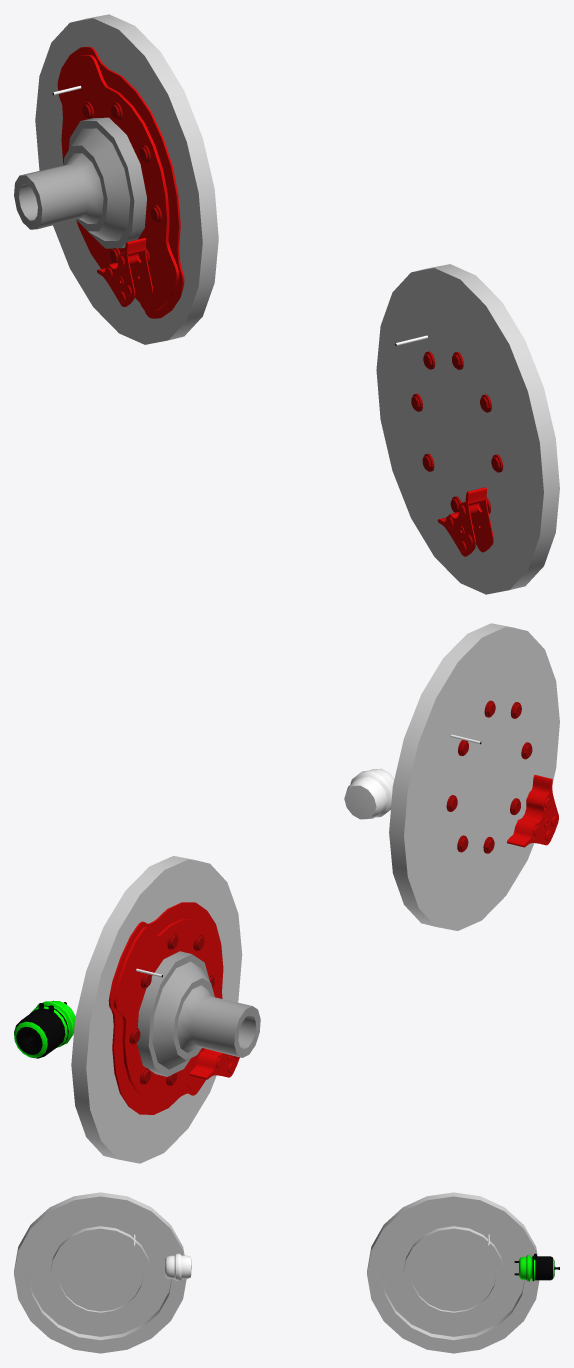
File: JianSuKuang.fbx
The picture shows the model from 3 angles, top to bottom: view 1: azimuth 30°, elevation 25°; view 2: azimuth 150°, elevation 25°; view 3: azimuth 270°, elevation 25°; orthographic projection. The views are drawn at different scales.
Visible parts, largest first — view 1: jiansukuang1, jiansukuang3, polySurface211, polySurface213, polySurface200, polySurface192, polySurface183, polySurface174; view 2: jiansukuang1, jiansukuang3, polySurface211, polySurface213, polySurface159, polySurface200, polySurface165, polySurface183, polySurface192, polySurface174; view 3: jiansukuang3, jiansukuang1, polySurface159, polySurface165.
Part boxes in pixels (x1,y1,x2,y2): jiansukuang1: [376, 264, 559, 594]; jiansukuang3: [35, 14, 218, 344]; polySurface211: [57, 46, 184, 318]; polySurface213: [14, 117, 146, 248]; polySurface200: [437, 487, 493, 556]; polySurface192: [97, 238, 152, 306]; polySurface183: [411, 351, 503, 513]; polySurface174: [82, 102, 162, 264]; jiansukuang1: [389, 623, 559, 930]; jiansukuang3: [71, 856, 242, 1163]; polySurface211: [108, 902, 223, 1114]; polySurface213: [137, 951, 260, 1076]; polySurface159: [14, 1000, 75, 1058]; polySurface200: [507, 775, 558, 847]; polySurface165: [344, 768, 394, 819]; polySurface183: [446, 700, 532, 853]; polySurface192: [189, 1049, 239, 1079]; polySurface174: [129, 933, 214, 1085]; jiansukuang3: [367, 1192, 539, 1353]; jiansukuang1: [14, 1192, 186, 1353]; polySurface159: [514, 1253, 559, 1281]; polySurface165: [165, 1253, 191, 1280].
Size of the model in its own units: 49.7 by 90.16 by 284.
